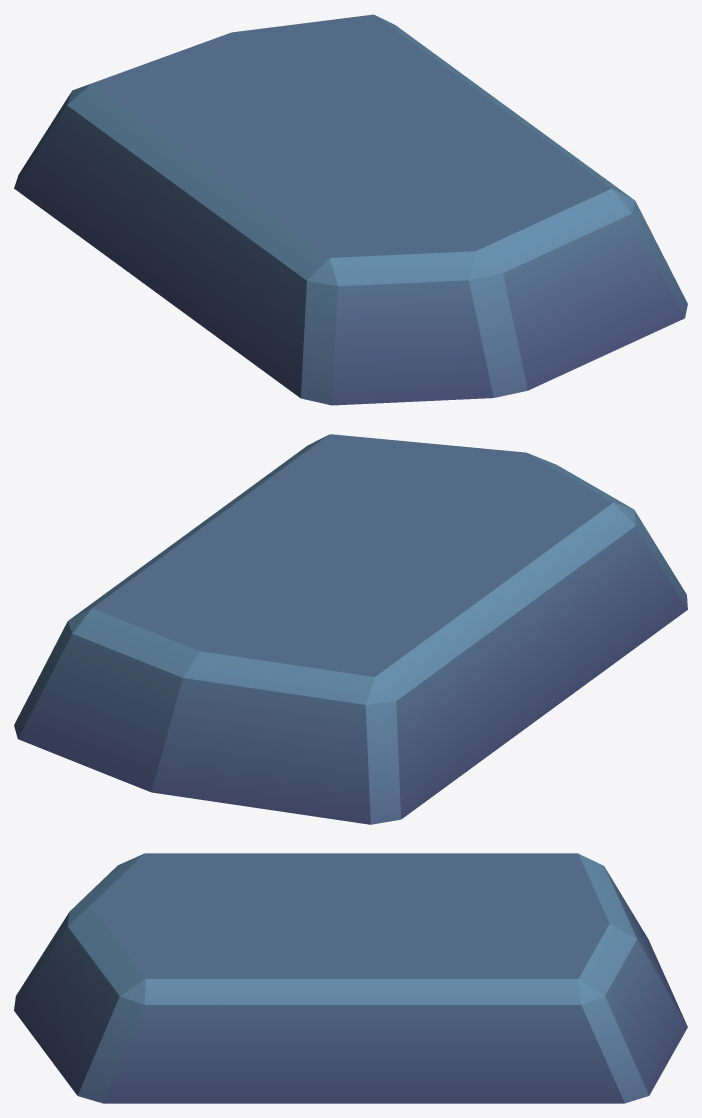
Rendered from Roadstones-3-4.fbx.
The picture shows the model from 3 angles, top to bottom: view 1: azimuth 30°, elevation 25°; view 2: azimuth 150°, elevation 25°; view 3: azimuth 270°, elevation 25°; orthographic projection. The views are drawn at different scales.
Visible parts, largest first — view 1: Roadstones-3-4; view 2: Roadstones-3-4; view 3: Roadstones-3-4.
Part boxes in pixels (box(x1,y1,x2,y2)): Roadstones-3-4: box(14, 14, 687, 405); Roadstones-3-4: box(14, 434, 687, 824); Roadstones-3-4: box(14, 853, 687, 1103).
Bounding box in the file's own units: 65.7 × 18.02 × 109.
